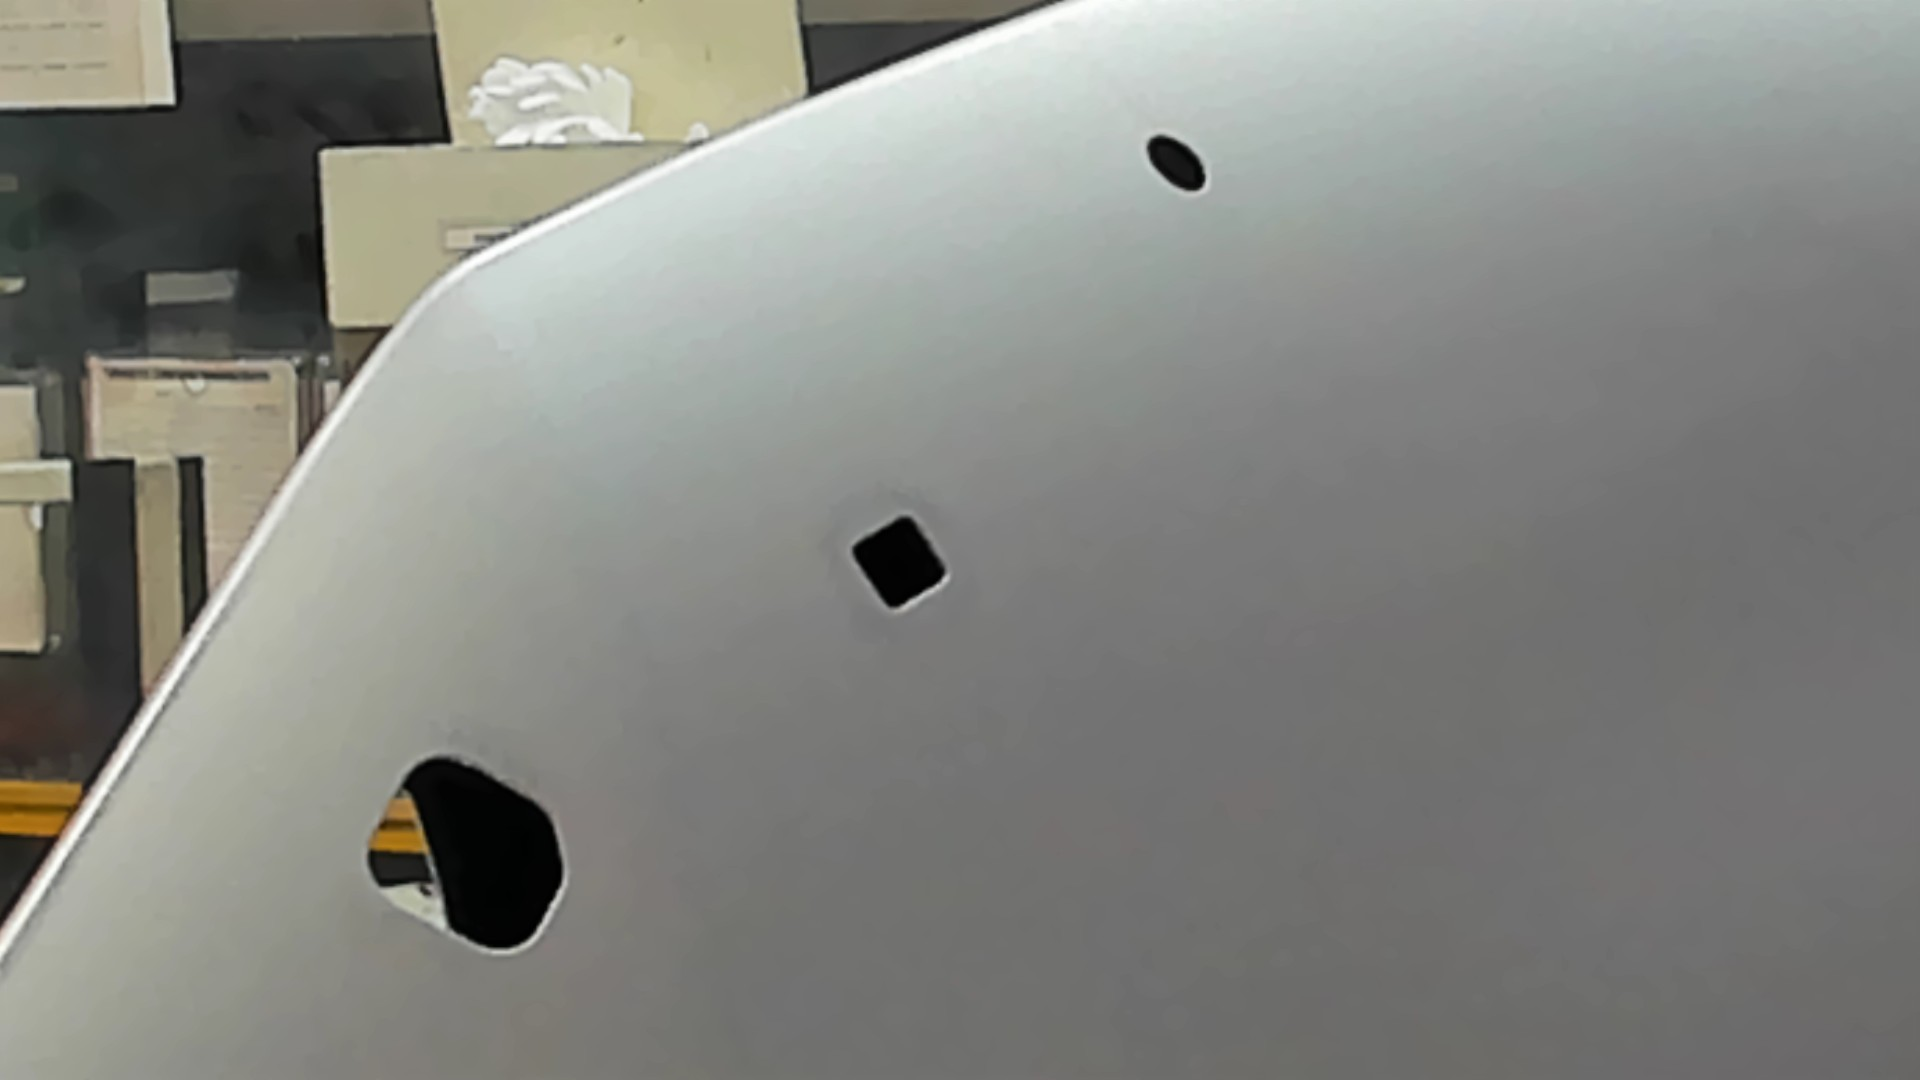Agujero: (851, 514, 951, 615), (1145, 129, 1209, 195)
Agujerote: (363, 752, 568, 959)
